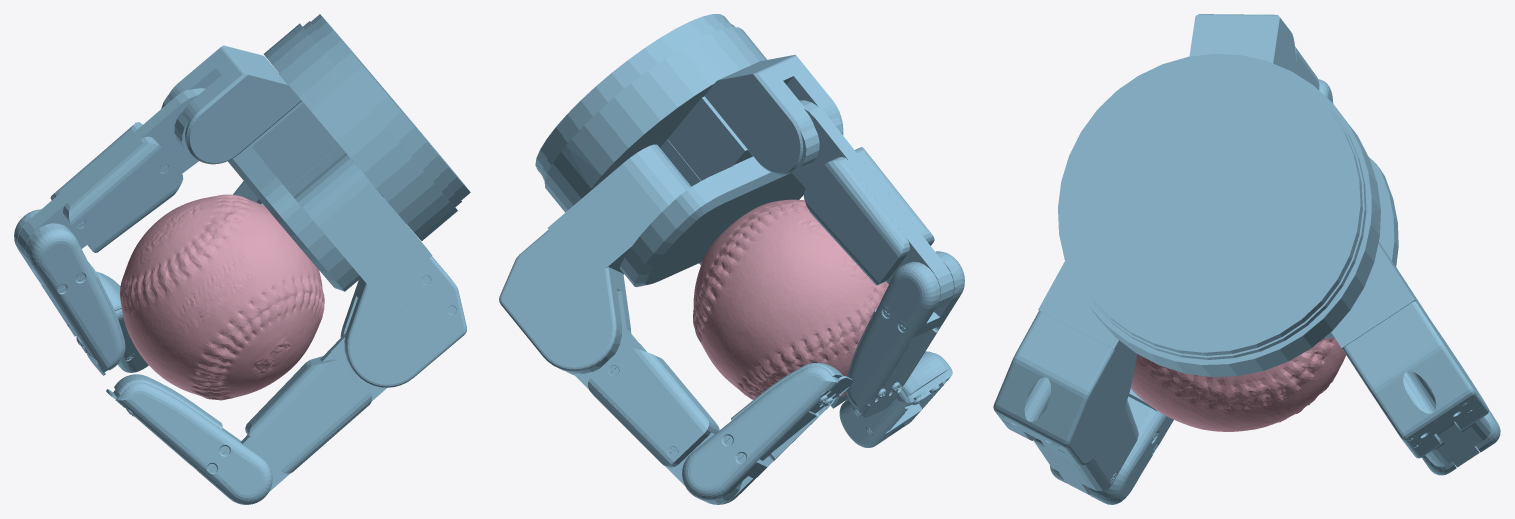
3 views of the same model, side by side, from view 1: azimuth 30°, elevation 25°; view 2: azimuth 150°, elevation 25°; view 3: azimuth 270°, elevation 25° (orthographic). The views are drawn at different scales.
Parts seen in each view (by area): view 1: world; view 2: world; view 3: world.
Part boxes in pixels (x1,y1,x2,y2): world: (14,14,470,504); world: (499,14,964,504); world: (993,14,1500,504).
Size of the model in its own units: 0.1694 by 0.1633 by 0.1421.
